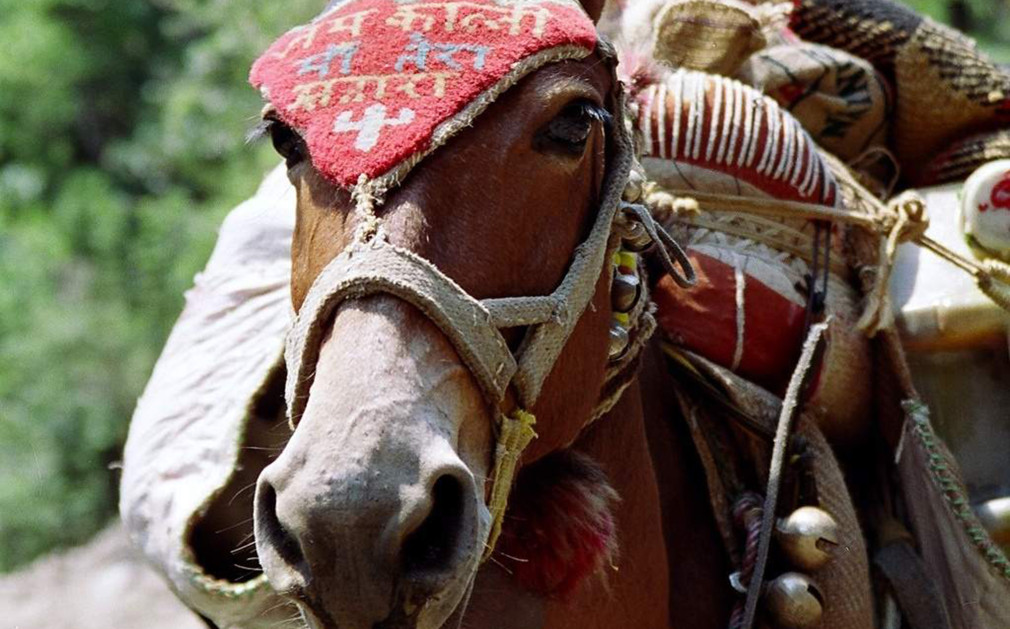equine: (81, 1, 1010, 622)
